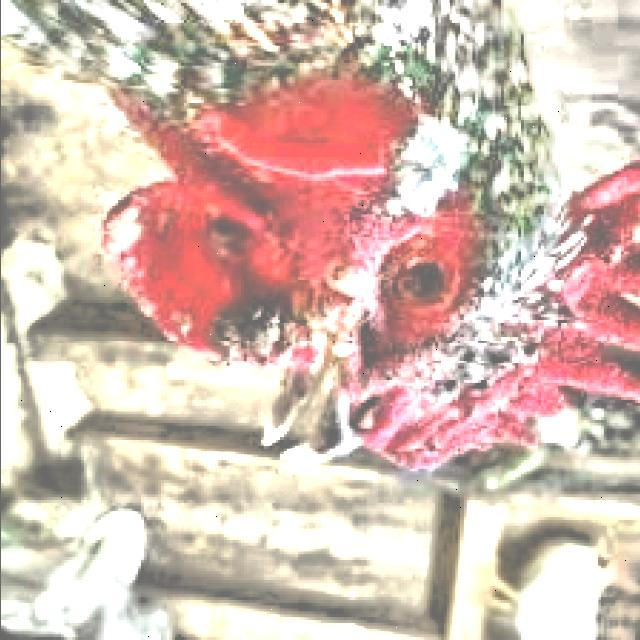Fowlpox: (162, 124, 572, 460)
